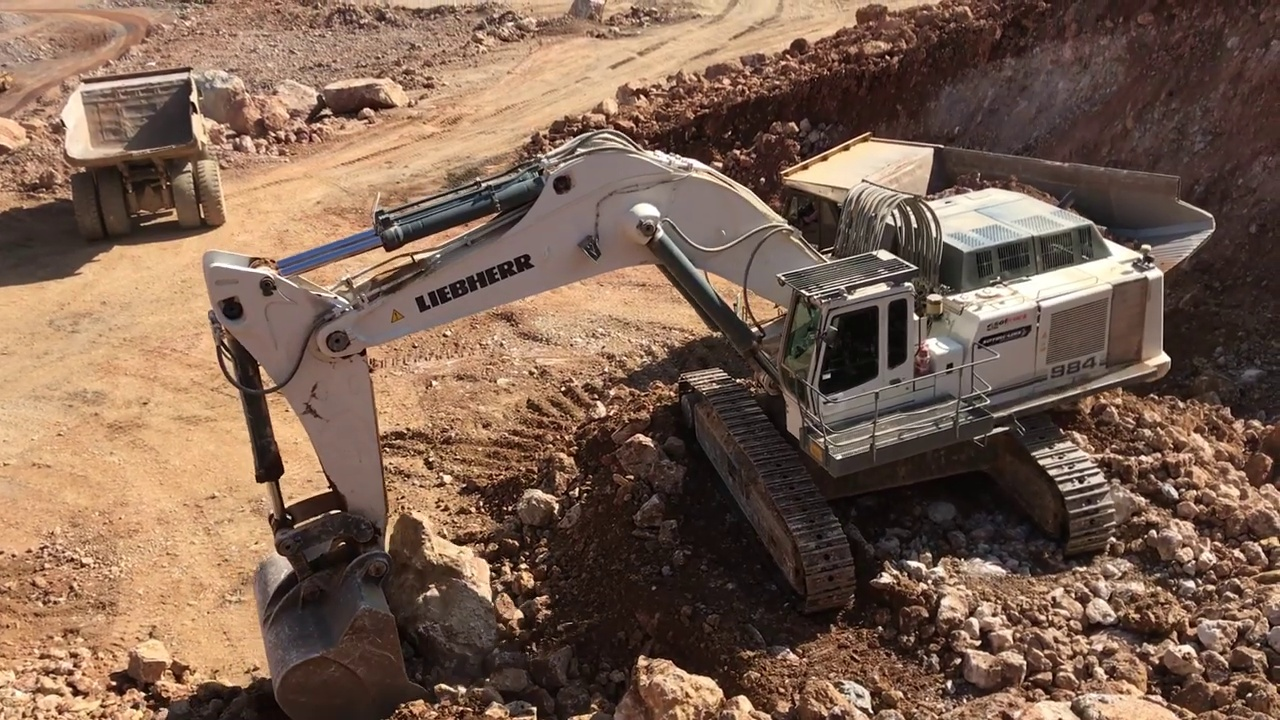dumper: (771, 135, 1217, 320), (60, 69, 225, 241)
excavator: (201, 133, 1175, 720)
